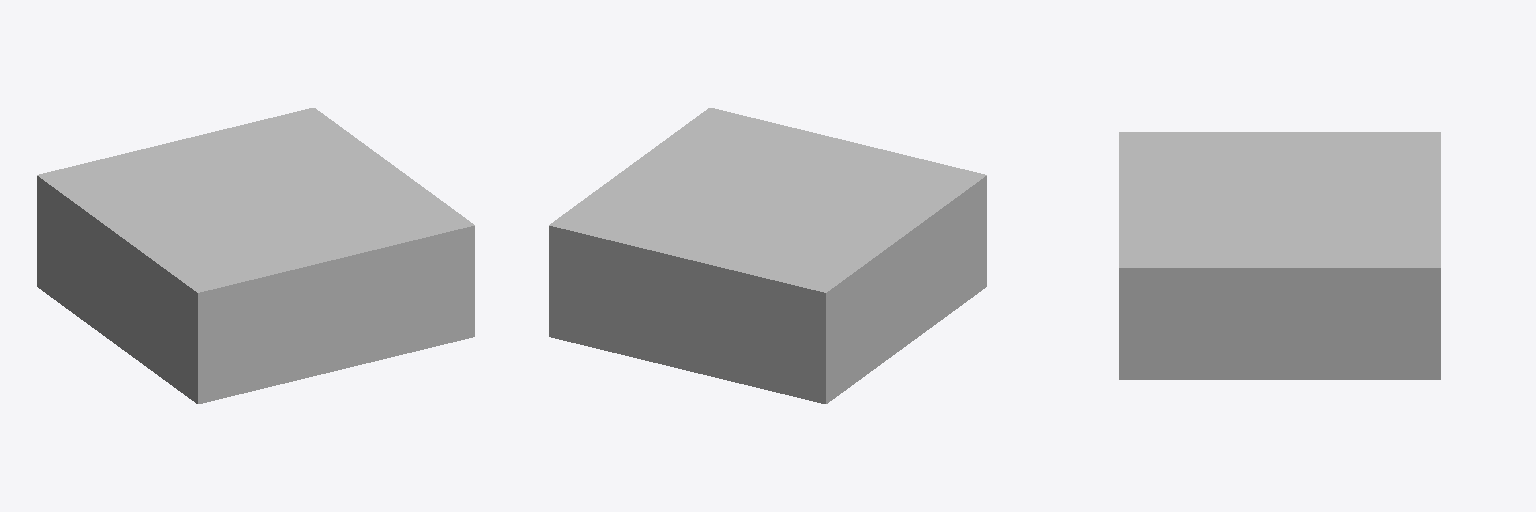
Rendered from room.obj.
The picture shows the model from 3 angles: view 1: azimuth 30°, elevation 25°; view 2: azimuth 150°, elevation 25°; view 3: azimuth 270°, elevation 25°; orthographic projection.
Parts seen in each view (by area): view 1: Cube; view 2: Cube; view 3: Cube.
Boxes of the visible parts, x1=… form: Cube: x1=37, y1=108, x2=474, y2=403; Cube: x1=549, y1=108, x2=986, y2=403; Cube: x1=1119, y1=132, x2=1440, y2=379.
Size of the model in its own units: 7.81 by 3 by 7.86.